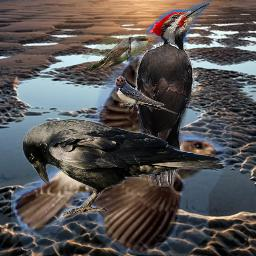Crow: (22, 118, 227, 222)
Cuckoo: (82, 35, 152, 71)
Swallow: (11, 53, 232, 255), (115, 76, 178, 114)
Woodpecker: (119, 0, 216, 187)
